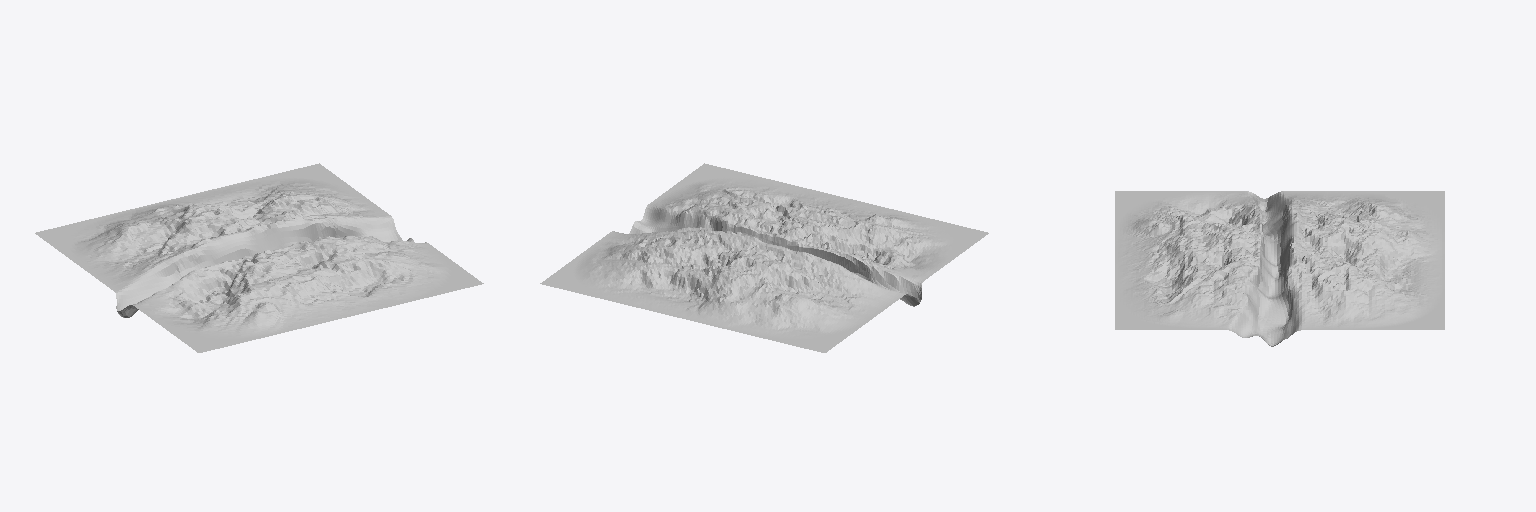
The model's file is landscape.obj.
3 renders of one model, left to right at view 1: azimuth 30°, elevation 25°; view 2: azimuth 150°, elevation 25°; view 3: azimuth 270°, elevation 25°, orthographic.
Visible parts, largest first — view 1: Landscape.006; view 2: Landscape.006; view 3: Landscape.006.
Part boxes in pixels (bbox=[...]): Landscape.006: bbox=[35, 163, 483, 352]; Landscape.006: bbox=[540, 163, 988, 352]; Landscape.006: bbox=[1115, 191, 1444, 346].
Bounding box in the file's own units: 2.04 × 0.3052 × 2.